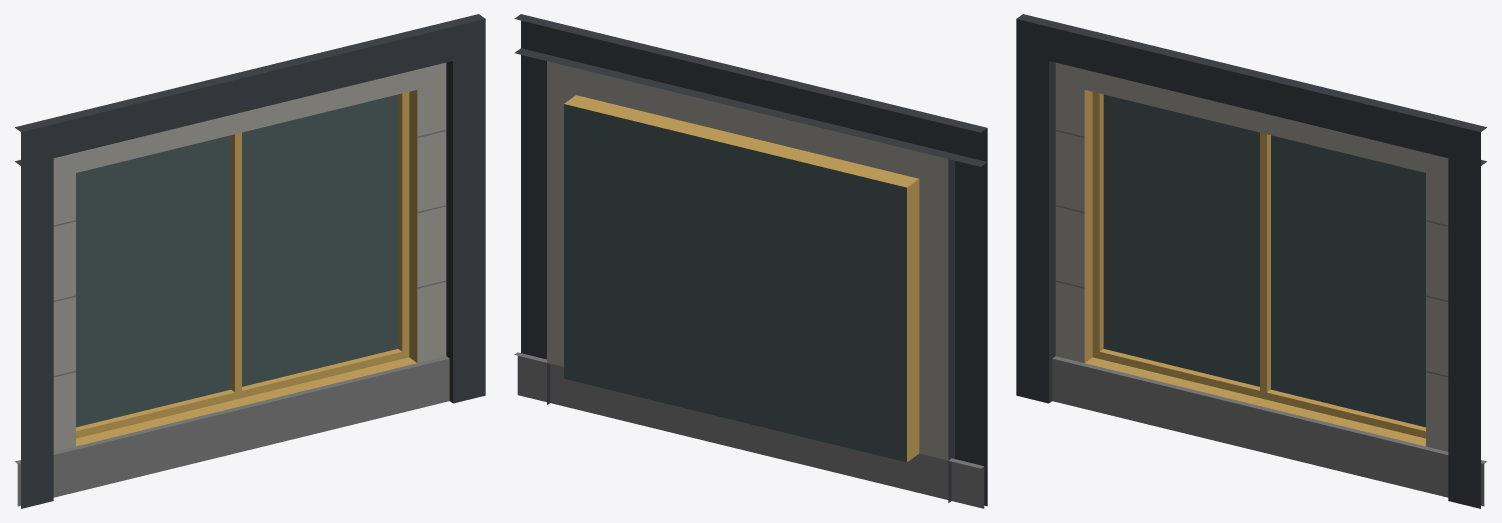
File: base-w1_close.fbx
The picture shows the model from 3 angles, left to right: view 1: azimuth 30°, elevation 25°; view 2: azimuth 150°, elevation 25°; view 3: azimuth 330°, elevation 25°; orthographic projection.
Parts seen in each view (by area): view 1: a2019/750/base-w1_close; view 2: a2019/750/base-w1_close; view 3: a2019/750/base-w1_close.
Part boxes in pixels (bbox=[...]): a2019/750/base-w1_close: bbox=[14, 14, 485, 508]; a2019/750/base-w1_close: bbox=[514, 14, 987, 508]; a2019/750/base-w1_close: bbox=[1016, 14, 1487, 508].
Size of the model in its own units: 4 by 3.1 by 0.28.
